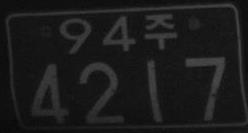1: (133, 60, 174, 122)
2: (79, 61, 123, 124)
4: (31, 64, 69, 123), (102, 14, 136, 51)
7: (185, 56, 225, 122)
9: (59, 18, 92, 55)
주: (144, 13, 178, 50)
